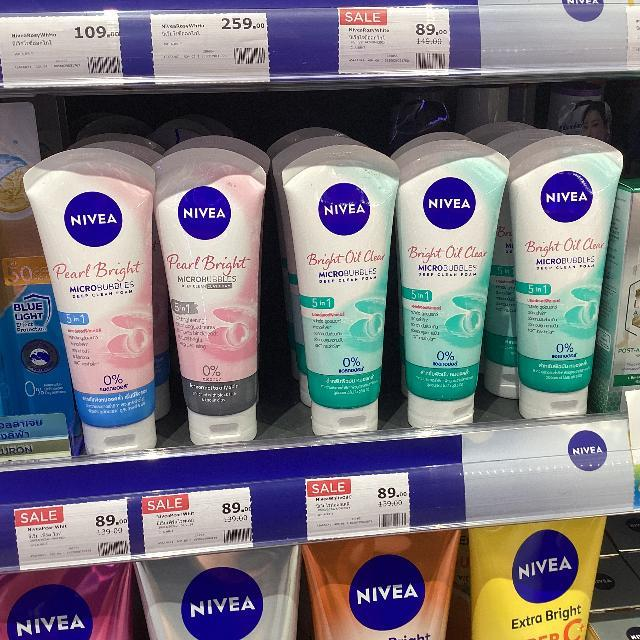Squeeze Tube: (43, 130, 622, 457), (12, 129, 190, 452), (267, 143, 400, 449)
